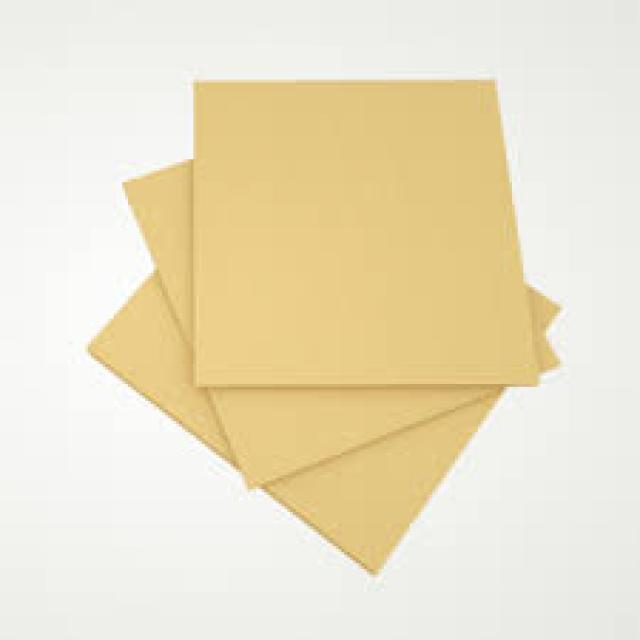Cardboard: (190, 73, 538, 385)
